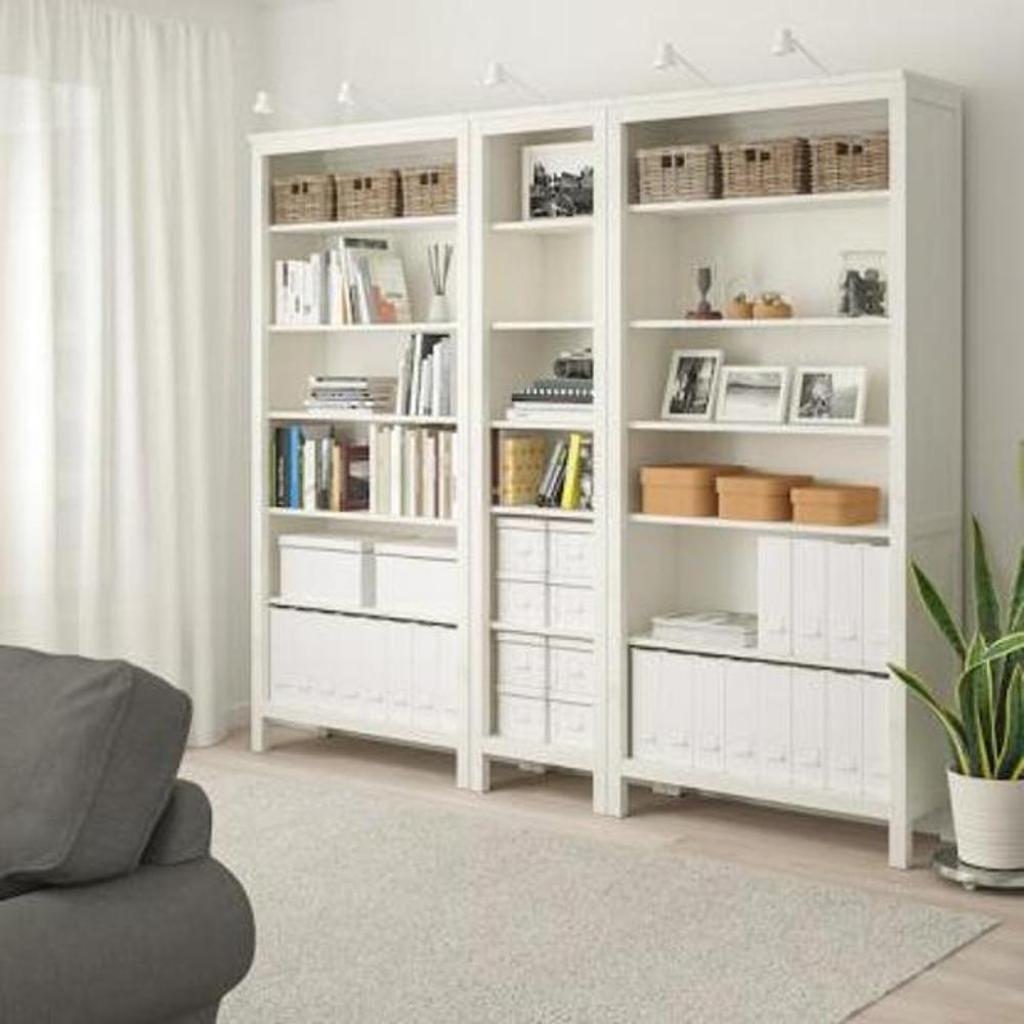lamp: (245, 60, 969, 870)
